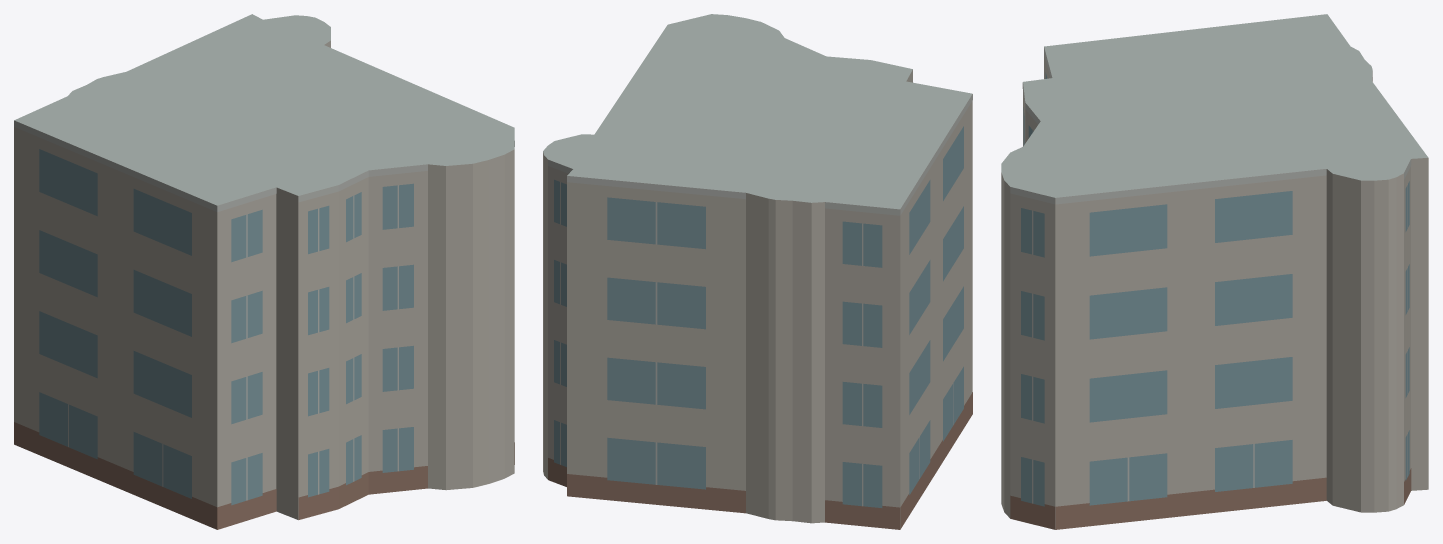
Rendered from survey-upis-32599087.glb.
The picture shows the model from 3 angles, left to right: view 1: azimuth 30°, elevation 25°; view 2: azimuth 150°, elevation 25°; view 3: azimuth 270°, elevation 25°; orthographic projection. The views are drawn at different scales.
Visible parts, largest first — view 1: survey-upis-32599087.tmp; view 2: survey-upis-32599087.tmp; view 3: survey-upis-32599087.tmp.
Part boxes in pixels (x1=…): survey-upis-32599087.tmp: x1=14, y1=14, x2=514, y2=529; survey-upis-32599087.tmp: x1=543, y1=14, x2=972, y2=529; survey-upis-32599087.tmp: x1=1001, y1=14, x2=1428, y2=529.
Size of the model in its own units: 14.5 by 12.2 by 14.24.
